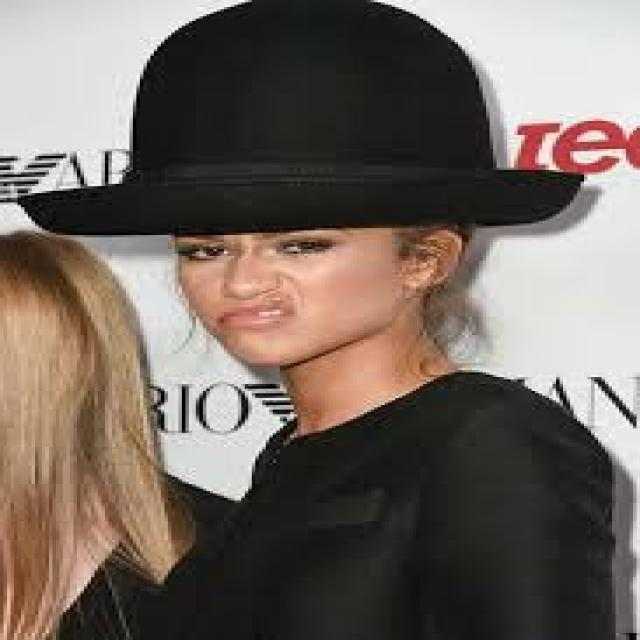hat: (20, 0, 607, 264)
